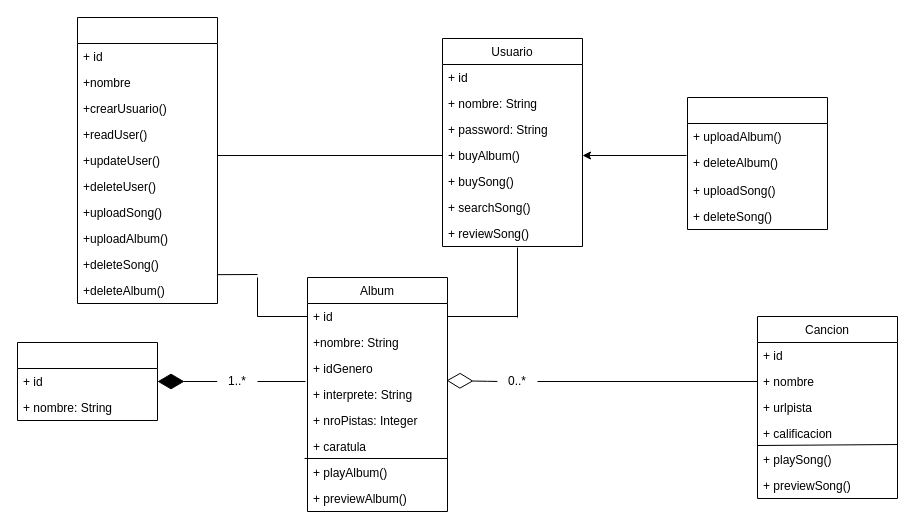
This 916x532 diagram has some shape labels left out. The shapes that lost their labels are listed below. From the top down, each one's box as (x1, y1, x2, y2) in pixels, then its label:
(76, 16, 218, 304): Administrador
(686, 96, 828, 230): Artista
(16, 342, 158, 420): GeneroMusical
